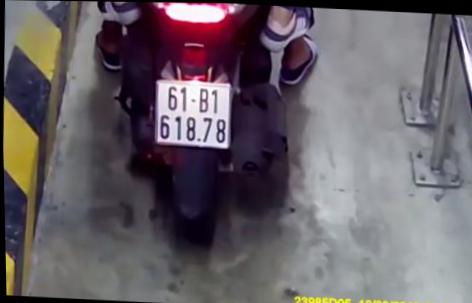LP: (153, 76, 233, 148)
